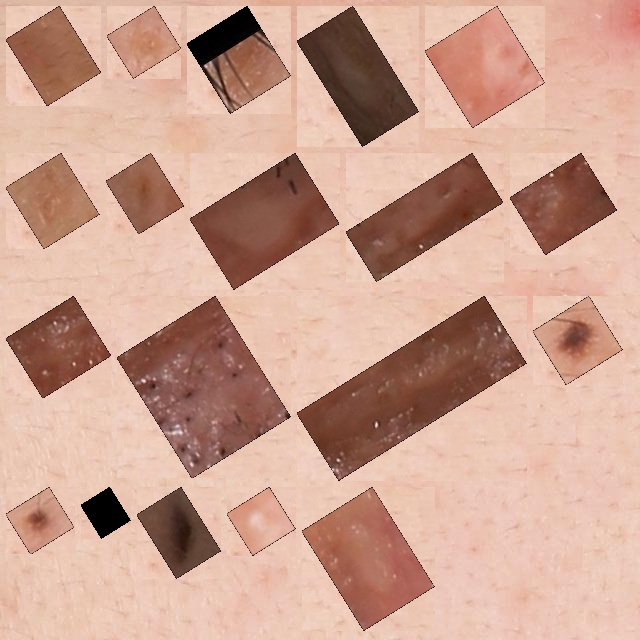hypertrophic_scar: (308, 307, 515, 469), (128, 307, 280, 467), (201, 164, 328, 278), (357, 164, 492, 270), (313, 498, 423, 619), (308, 17, 408, 135), (436, 17, 534, 116), (521, 164, 606, 243), (17, 307, 100, 387), (238, 498, 284, 544)
melasma: (198, 17, 280, 102), (17, 17, 90, 95), (17, 164, 88, 237), (117, 164, 173, 223), (118, 17, 170, 67)
nevus: (544, 307, 611, 373), (148, 498, 210, 567), (17, 498, 63, 543), (92, 498, 119, 527)
